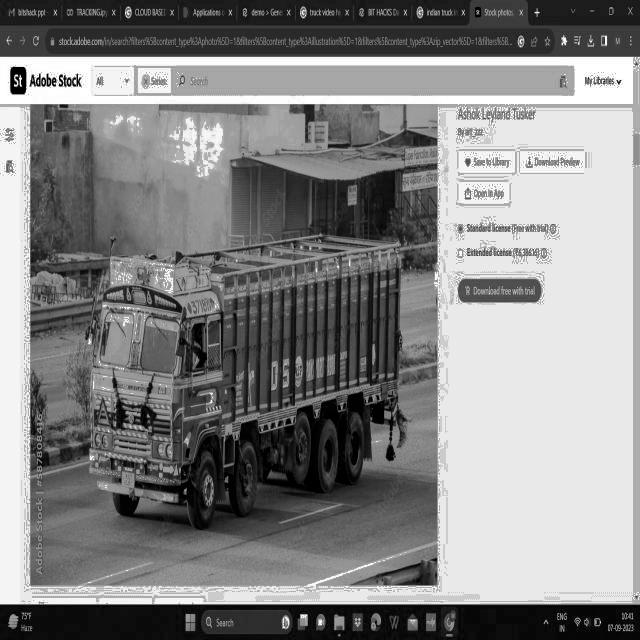HCV: (79, 220, 420, 538)
